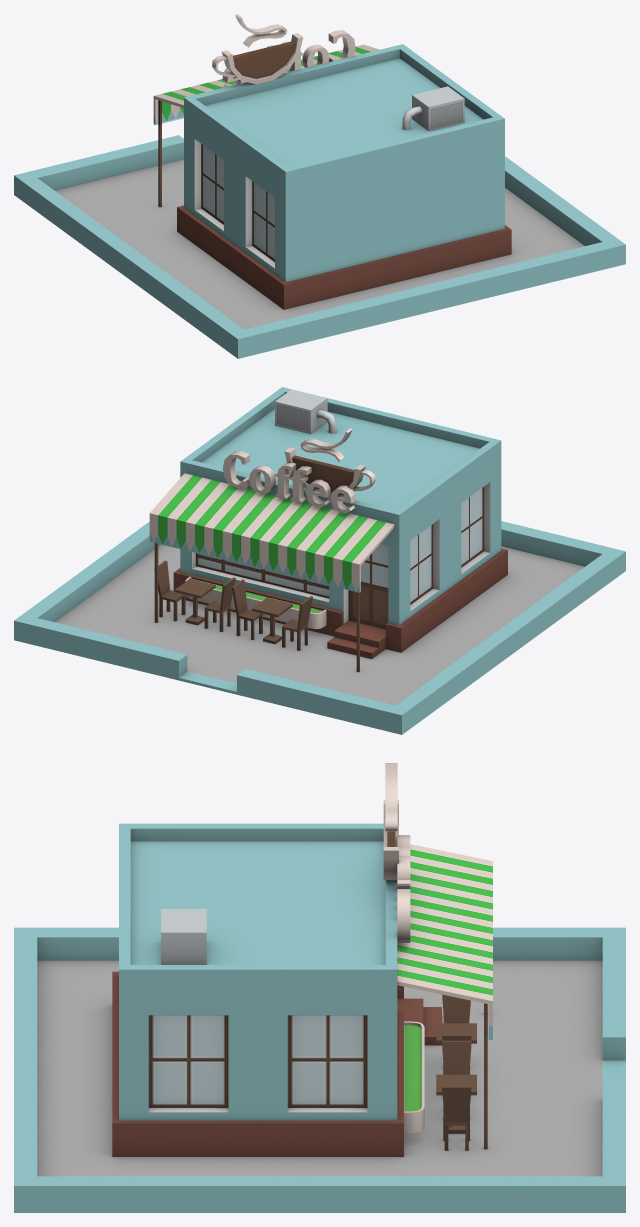
Rendered from HOS0610012.fbx.
The picture shows the model from 3 angles, top to bottom: view 1: azimuth 30°, elevation 25°; view 2: azimuth 150°, elevation 25°; view 3: azimuth 270°, elevation 25°; orthographic projection. The views are drawn at different scales.
Visible parts, largest first — view 1: smHOS0610012; view 2: smHOS0610012; view 3: smHOS0610012.
Part boxes in pixels (x1=…): smHOS0610012: x1=14, y1=14, x2=625, y2=358; smHOS0610012: x1=14, y1=387, x2=625, y2=734; smHOS0610012: x1=14, y1=763, x2=625, y2=1212.
Size of what is drawn, in the model's own units: 1197 by 613 by 1197.
Materials: 1 (1 with a texture image).
